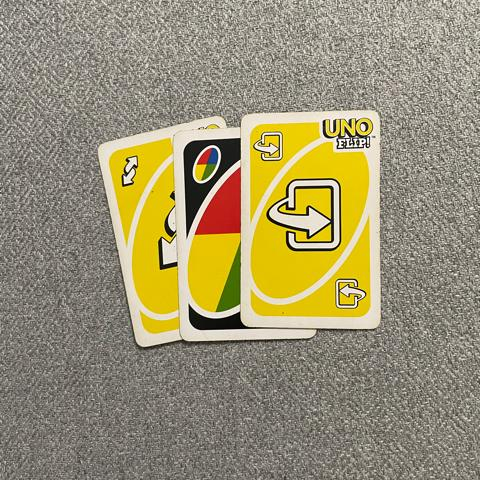5_yellow: (265, 176, 346, 252), (332, 277, 366, 310), (253, 131, 285, 164), (114, 155, 144, 187)
draw2_red: (191, 145, 222, 183)
